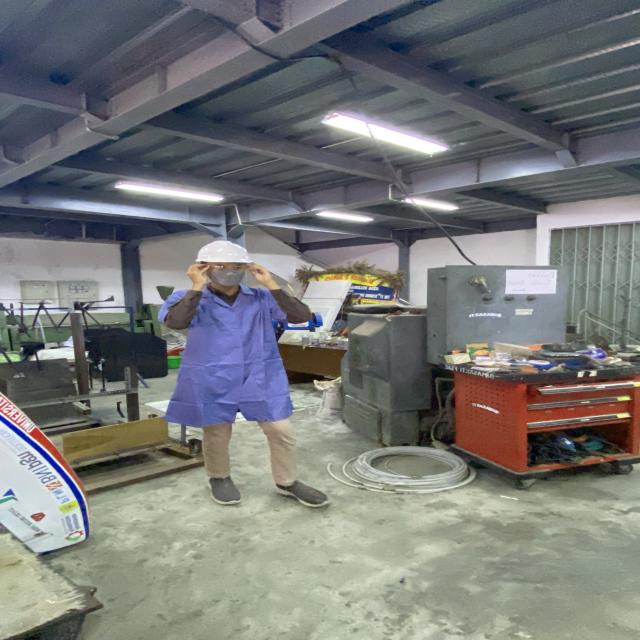face_mask: (205, 260, 251, 288)
glasses: (201, 262, 255, 275)
hand_noglove: (238, 263, 278, 284), (184, 262, 217, 282)
head_helmet: (192, 238, 254, 264)
person: (168, 236, 322, 516)
shoes: (272, 476, 336, 510), (204, 472, 248, 506)
